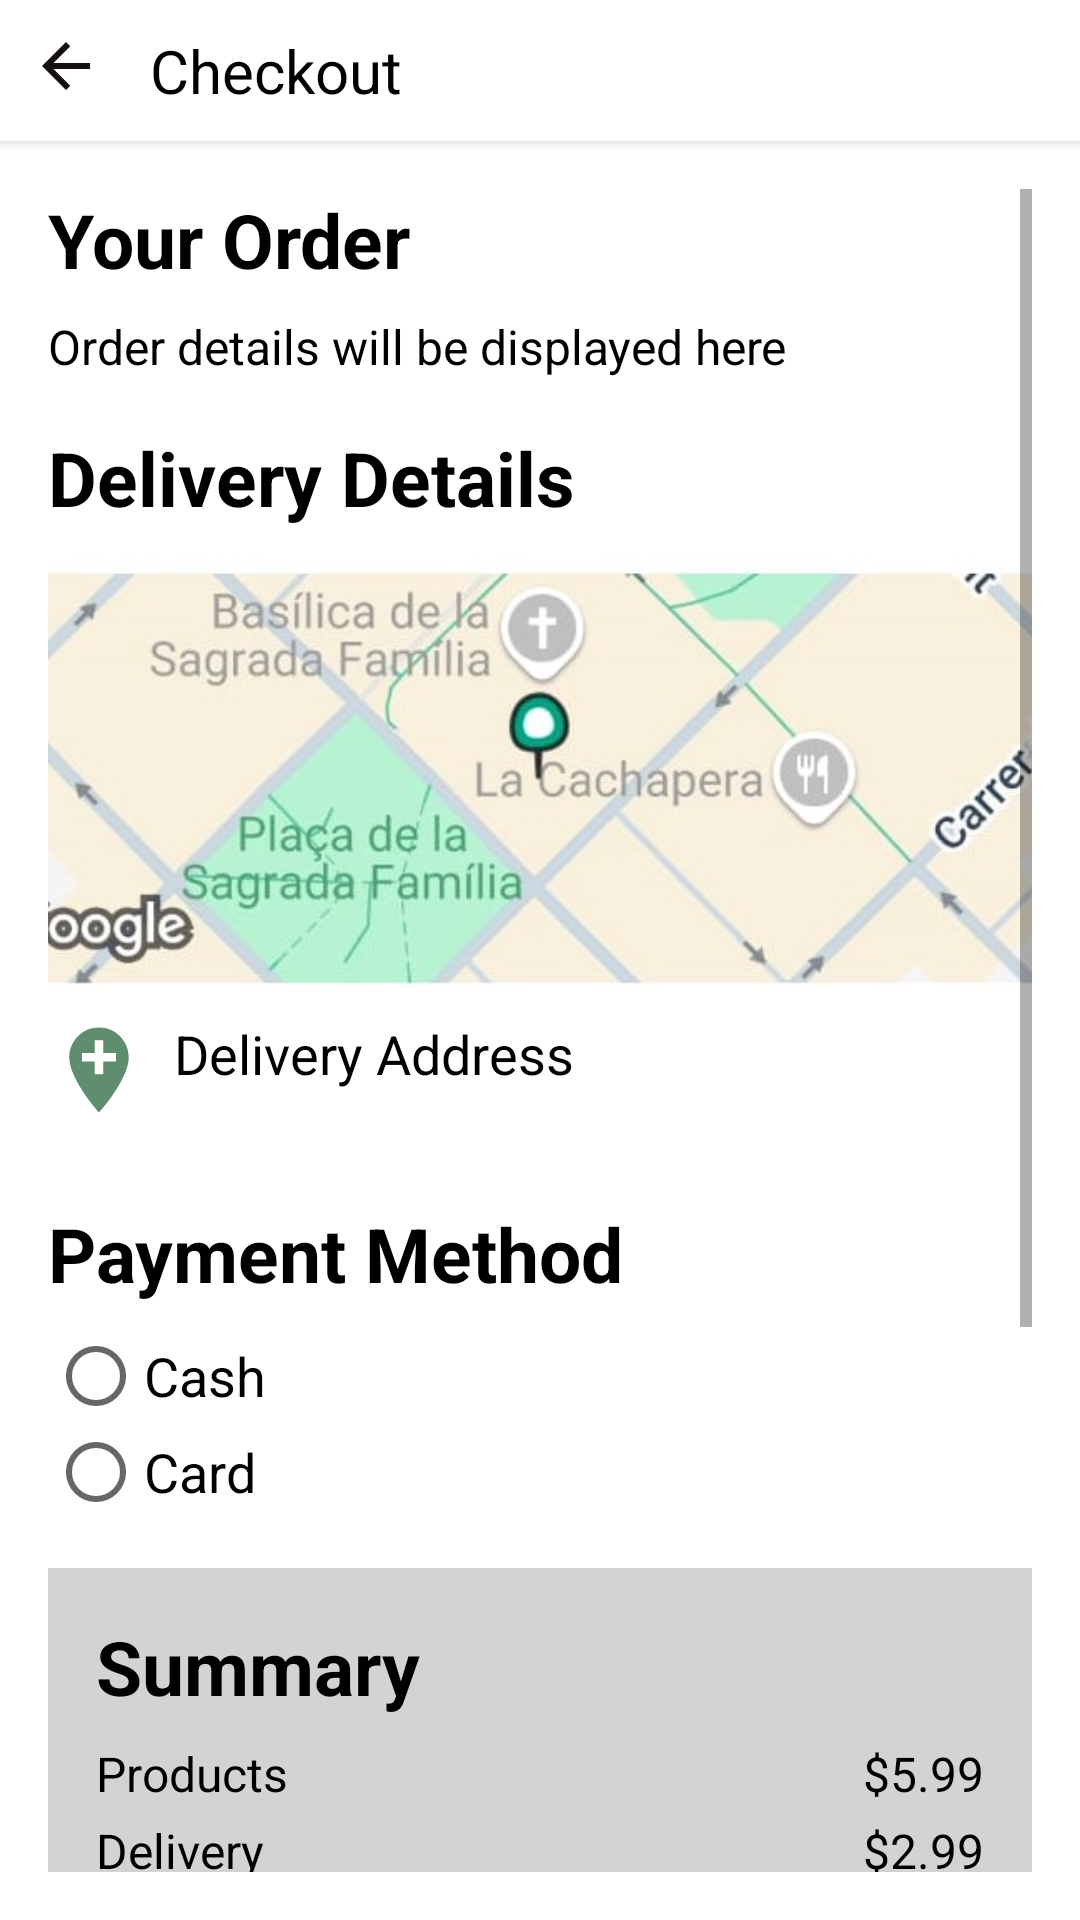

Named icons in this screenshot (1080×1920) and their bounding boxes, (x1, y1, x2, y2):
Back: (42, 42, 90, 90)
Location Icon: (69, 1027, 129, 1112)
